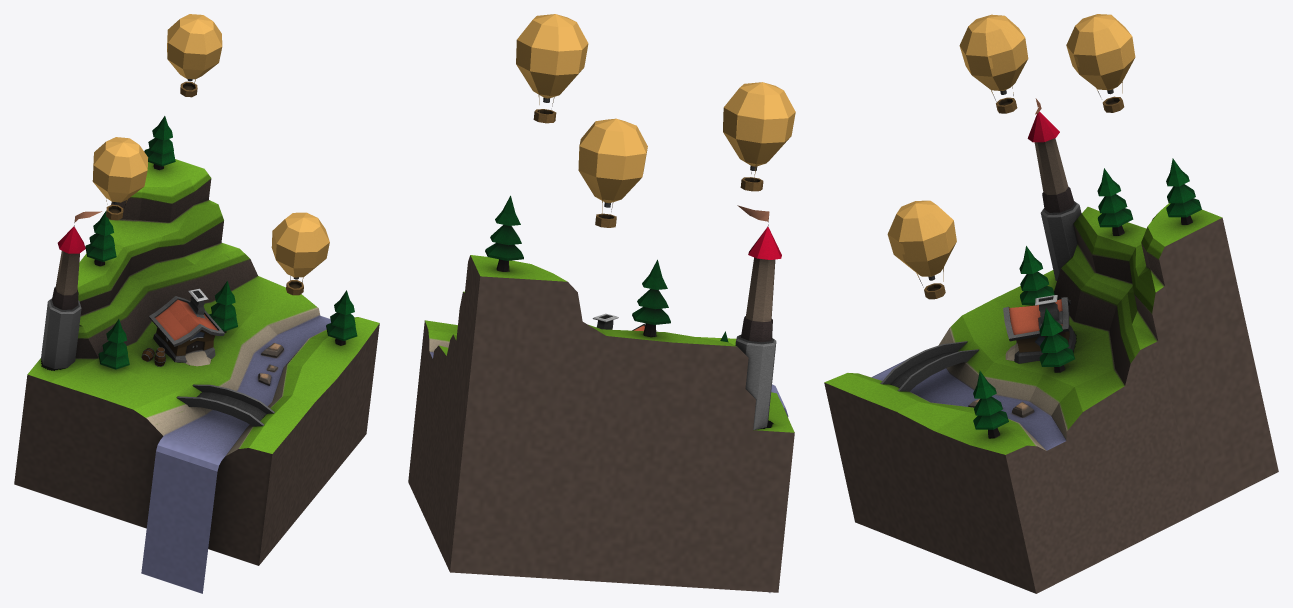
Rendered from Island.glb.
The picture shows the model from 3 angles, left to right: view 1: azimuth 30°, elevation 25°; view 2: azimuth 150°, elevation 25°; view 3: azimuth 270°, elevation 25°; orthographic projection. The views are drawn at different scales.
Parts seen in each view (by area): view 1: mesh_id11, mesh_id10; view 2: mesh_id11, mesh_id10; view 3: mesh_id11, mesh_id10.
Part boxes in pixels (x1,y1,x2,y2): mesh_id11: (14, 14, 379, 593); mesh_id10: (41, 211, 224, 368); mesh_id11: (408, 14, 795, 592); mesh_id10: (592, 205, 781, 429); mesh_id11: (824, 14, 1278, 593); mesh_id10: (1003, 98, 1081, 363).
Bounding box in the file's own units: 0.3852 × 0.5571 × 0.4053.
Materials: 2 (2 with a texture image).
